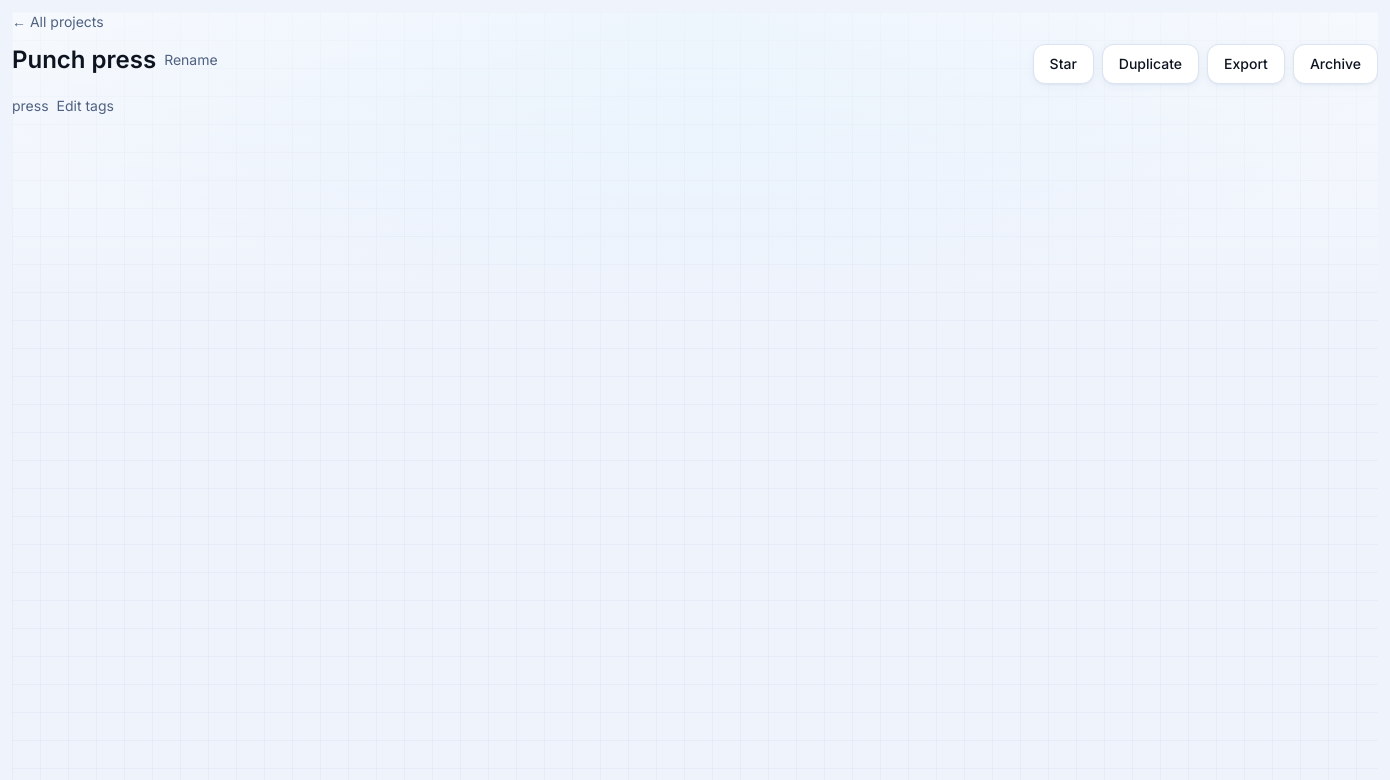
ProjectHeader › renames on the spot and shows the server's answer
Click the button "Rename": (191, 60) [164,50,218,70]
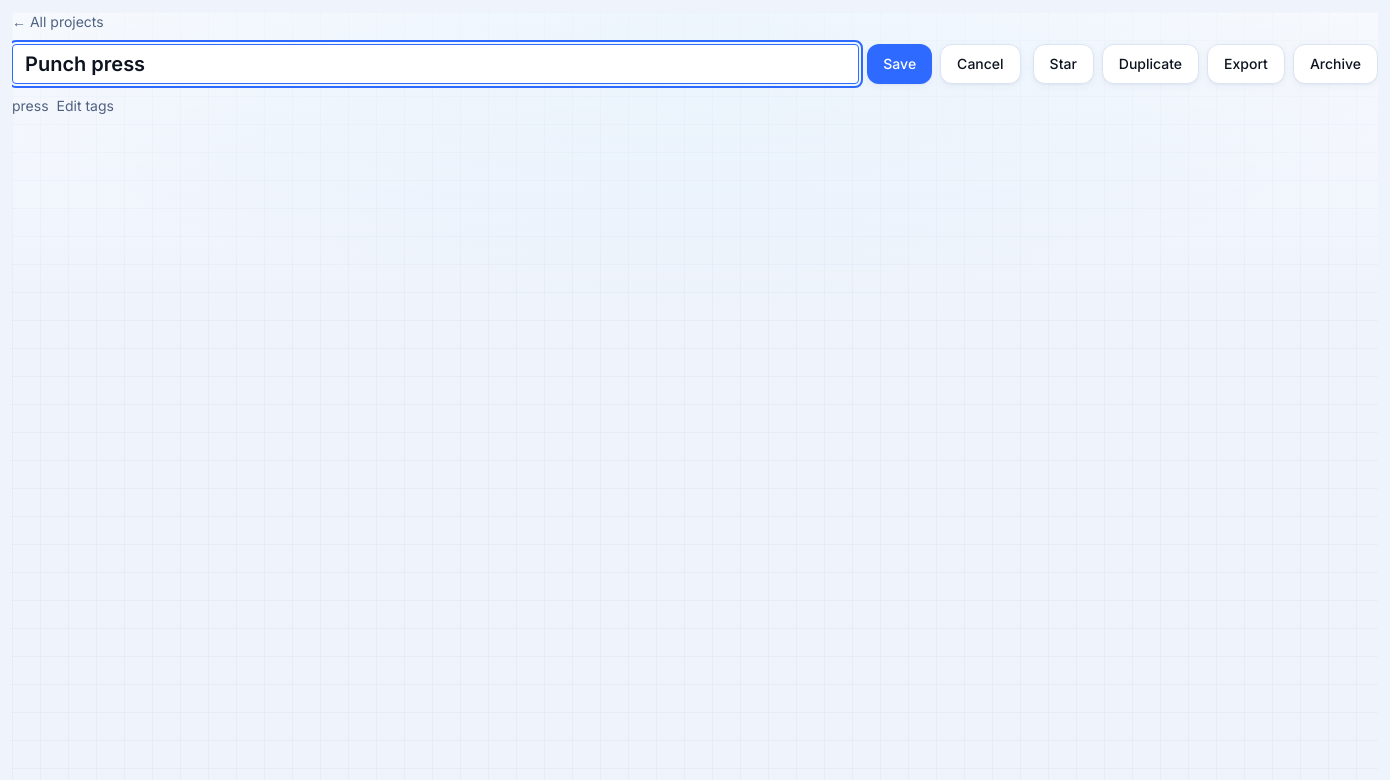
Replace the text in the field named "Project name" with "Press frame": (436, 64) [12,44,859,84]
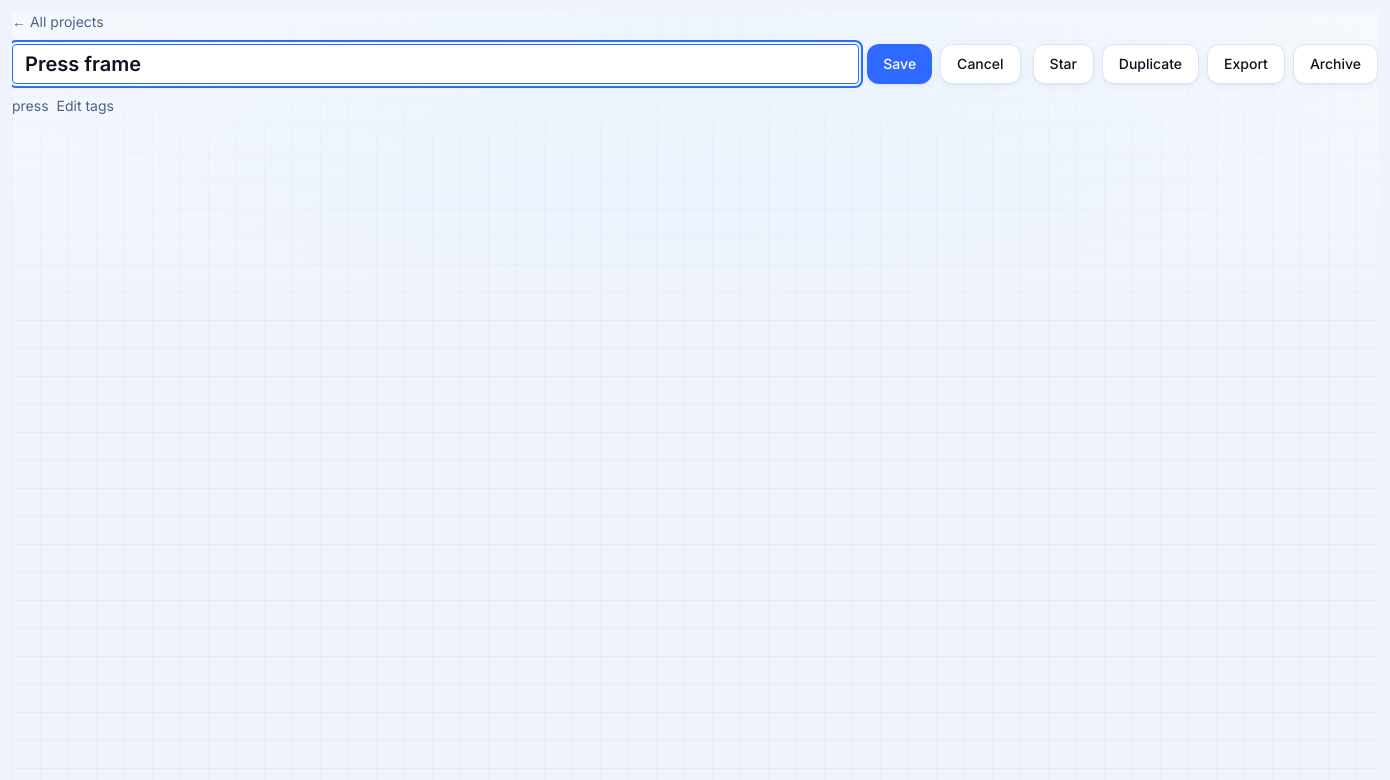
Click the button "Save": (900, 64) [867,44,932,84]
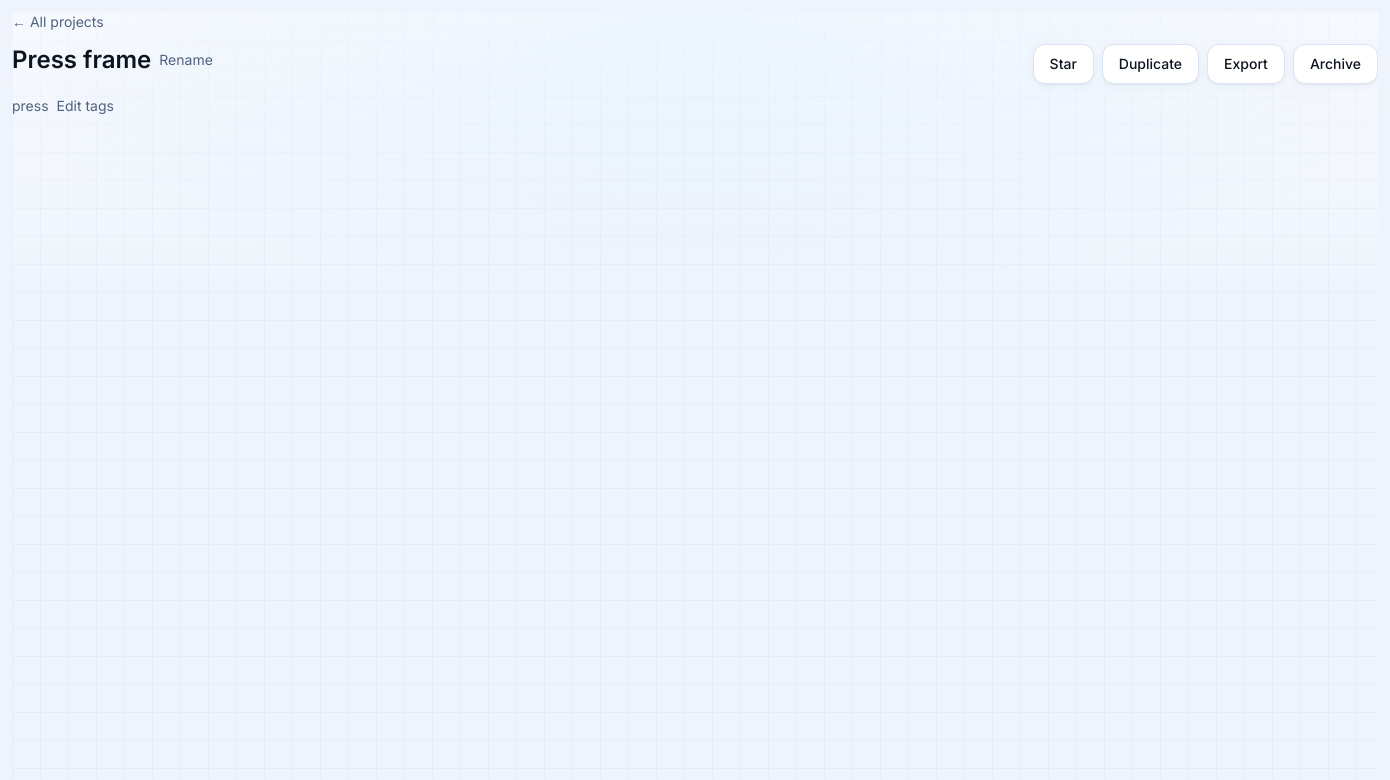
Expected: the heading "Press frame Rename" is shown, [12,45,213,74]
